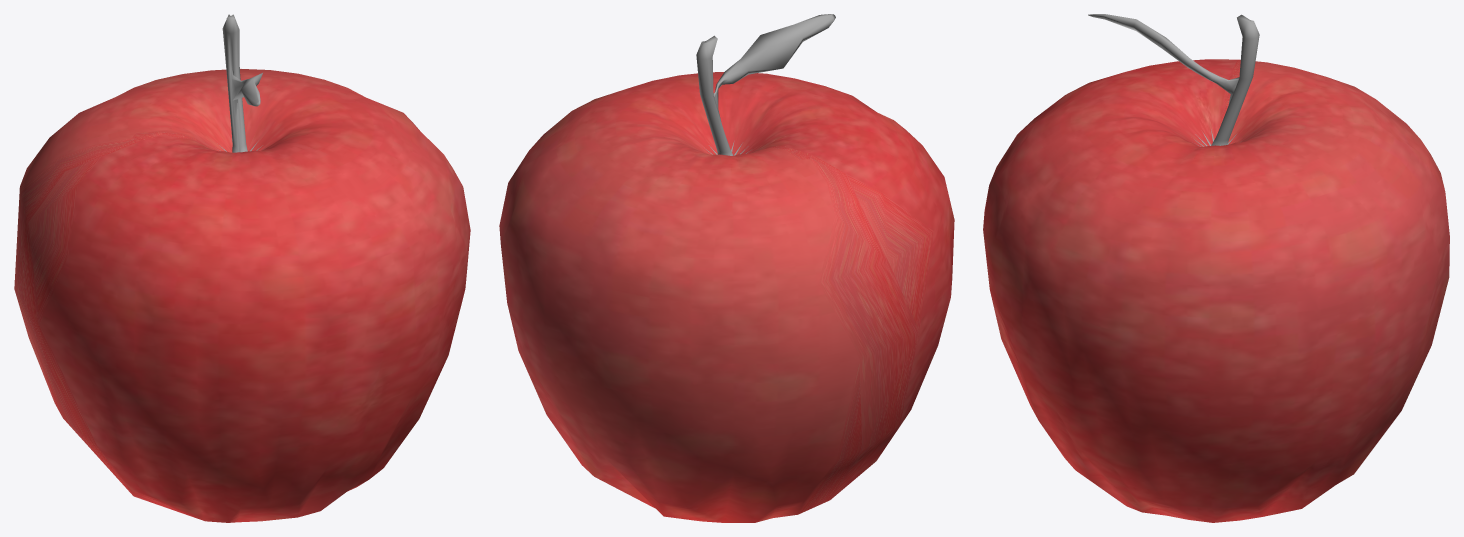
File: appeltje.obj
3 views of the same model, side by side, from view 1: azimuth 30°, elevation 25°; view 2: azimuth 150°, elevation 25°; view 3: azimuth 270°, elevation 25° (orthographic). The views are drawn at different scales.
Visible parts, largest first — view 1: Apple; view 2: Apple; view 3: Apple.
Boxes of the visible parts, box(x1,y1,x2,y2) form: Apple: box(14, 14, 470, 522); Apple: box(499, 14, 954, 522); Apple: box(983, 14, 1449, 522).
Size of the model in its own units: 1.22 by 1.34 by 1.22.
